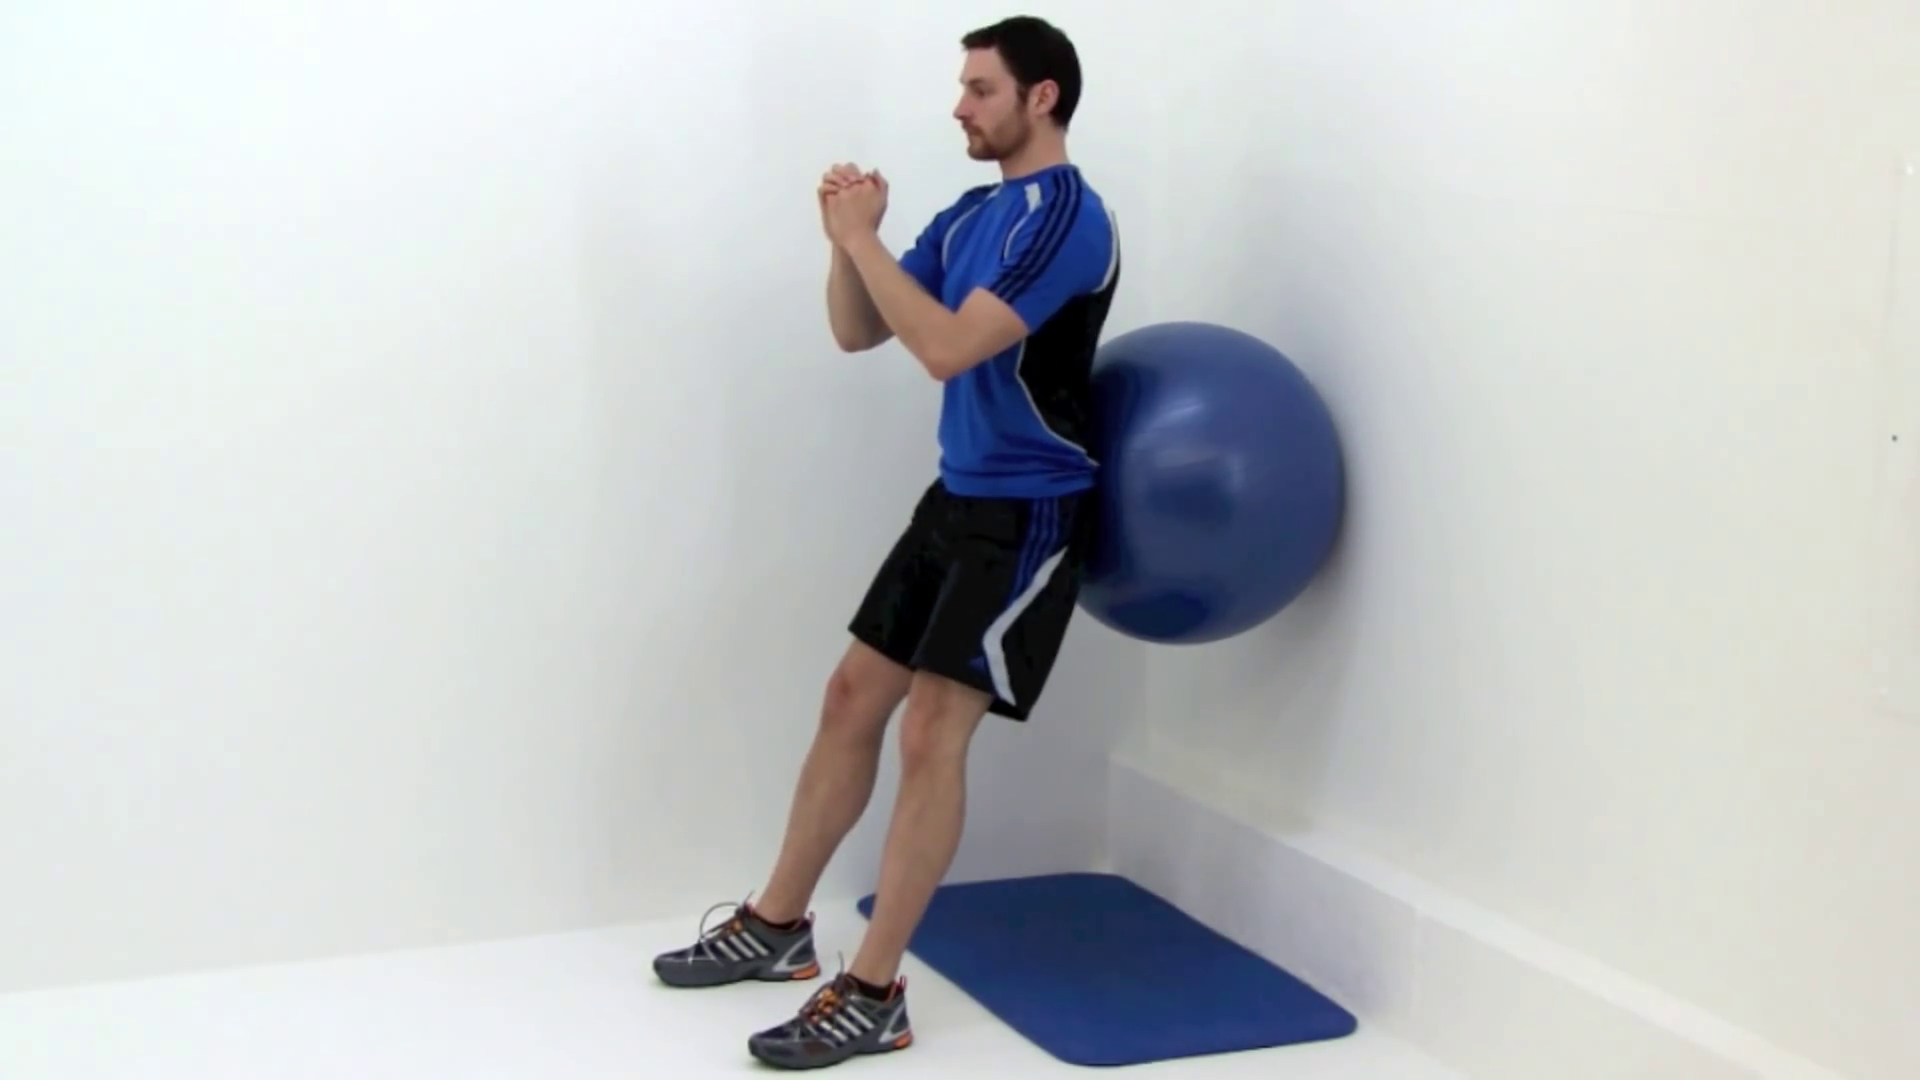yogaball: (1062, 295, 1360, 670)
